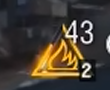2fire: (28, 48, 97, 82)
